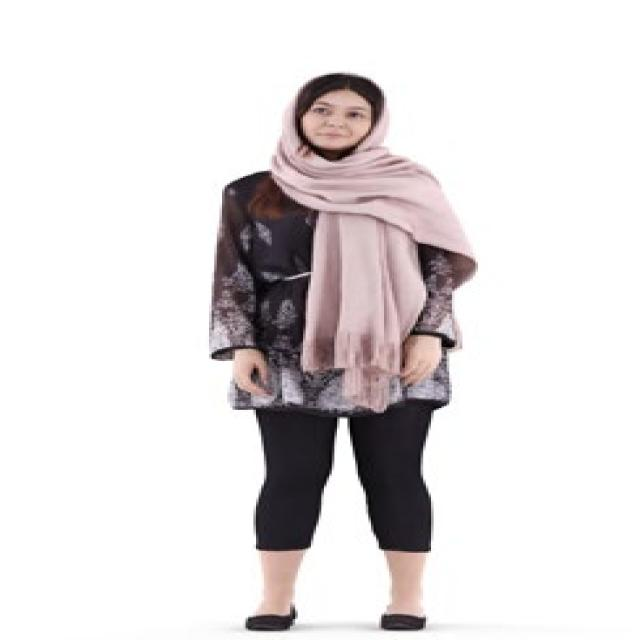standing: (202, 68, 460, 630)
